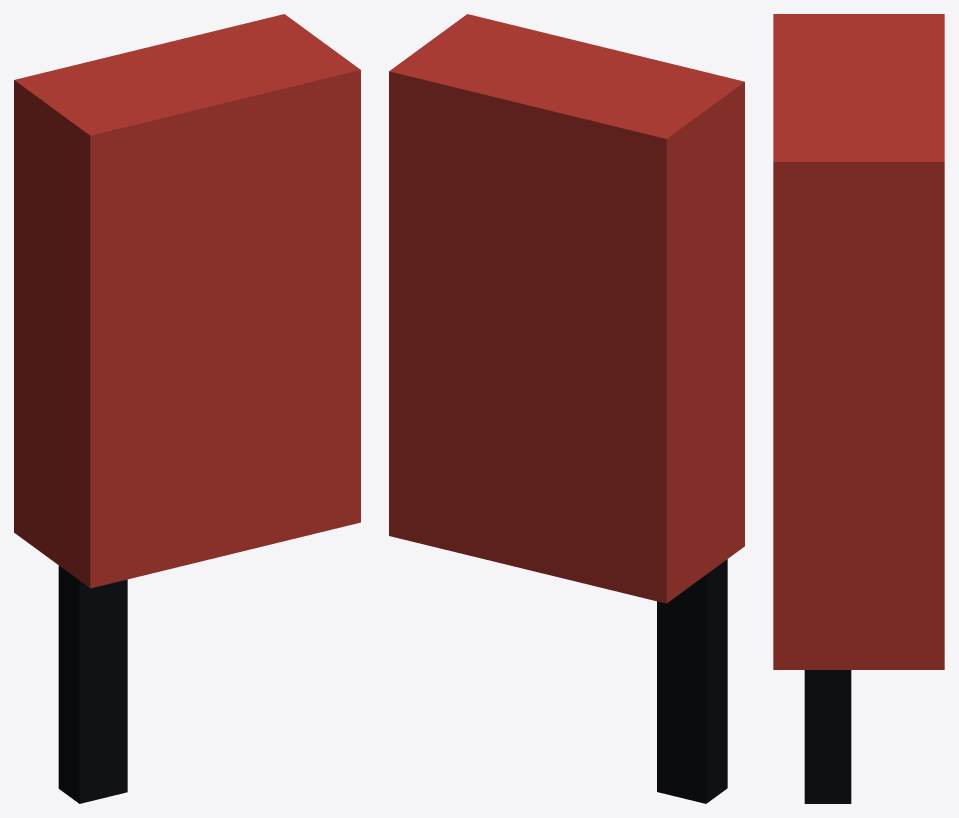
File: prop.wall_phone_alarm.glb
The picture shows the model from 3 angles, left to right: view 1: azimuth 30°, elevation 25°; view 2: azimuth 150°, elevation 25°; view 3: azimuth 270°, elevation 25°; orthographic projection. The views are drawn at different scales.
Parts seen in each view (by area): view 1: phone_box, cord_hint; view 2: phone_box, cord_hint; view 3: phone_box, cord_hint.
Part boxes in pixels (x1,y1,x2,y2): phone_box: (14, 14, 360, 588); cord_hint: (58, 565, 127, 803); phone_box: (389, 14, 744, 603); cord_hint: (657, 559, 727, 803); phone_box: (773, 14, 944, 669); cord_hint: (804, 670, 851, 803).
Size of the model in its own units: 0.45 by 1.08 by 0.22.
